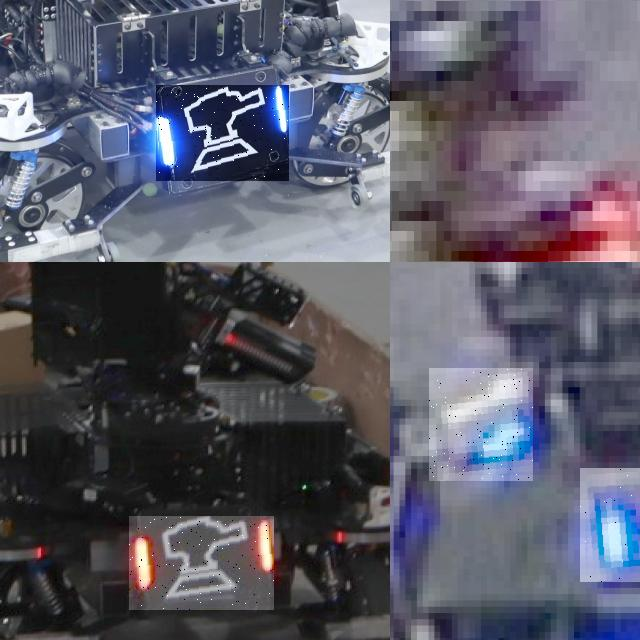B1: (429, 368, 533, 481), (579, 468, 640, 581)
Bs: (156, 85, 289, 181)
Rs: (129, 516, 274, 610)
